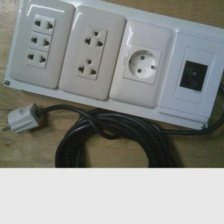three_eye_plug: (57, 3, 129, 103), (7, 0, 74, 87)
